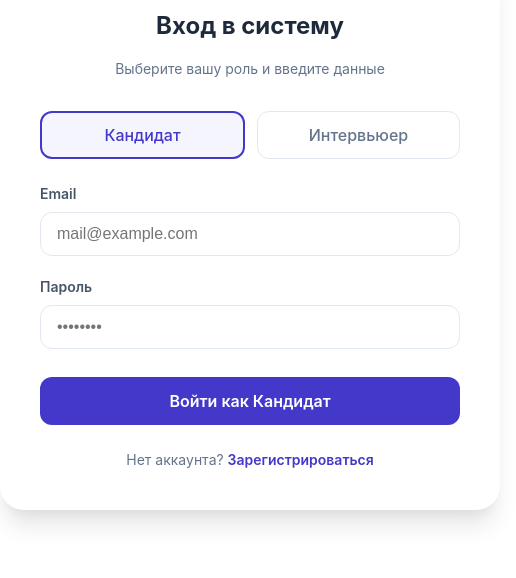
LoginForm component › shows error when login fails with 401
The image size is (516, 578).
Type "test@example.com" into the field with placeholder "mail@example.com" at coordinates (250, 234), box [40,212,460,256]
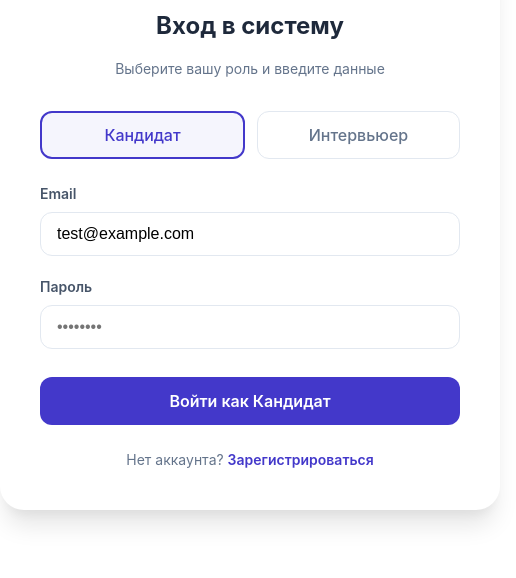
Type "password" into the password field with placeholder "••••••••" at coordinates (250, 327), box [40,305,460,349]
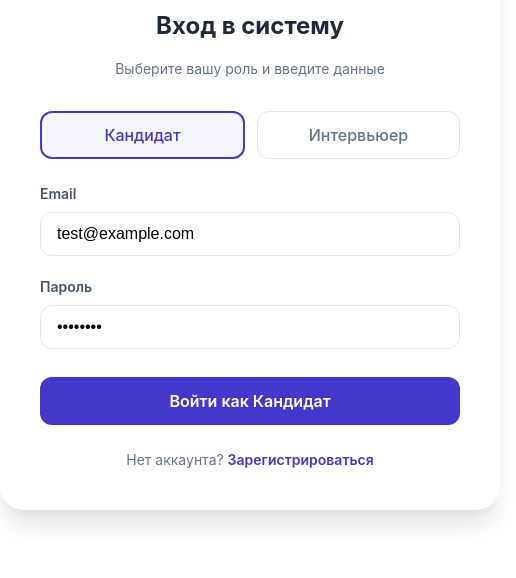
Click the button "Войти как Кандидат" at coordinates (250, 401), box [40,377,460,425]
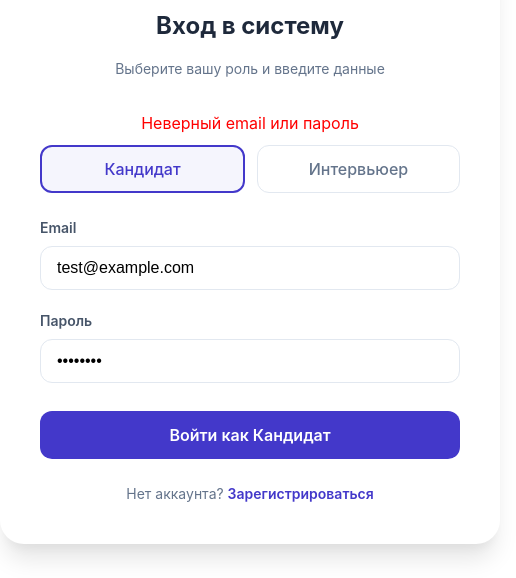
Check: the text "Неверный email или пароль" is shown, box [141,113,359,133]
